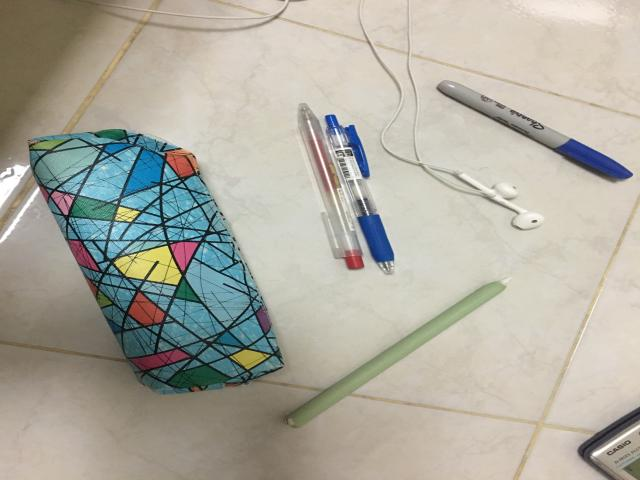Pen: (437, 81, 632, 179), (298, 104, 395, 274)
wire: (360, 25, 545, 230)
